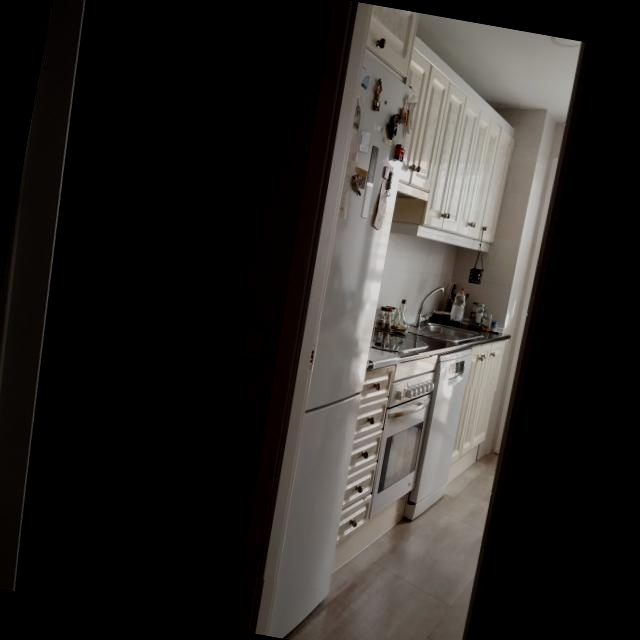cabinet: (391, 37, 515, 253), (337, 366, 395, 543), (446, 340, 506, 486)
countertop: (368, 332, 510, 369)
fridge: (263, 2, 414, 591)
oven: (369, 357, 436, 519)
shower: (411, 288, 482, 343)
sofa: (371, 330, 428, 353)
